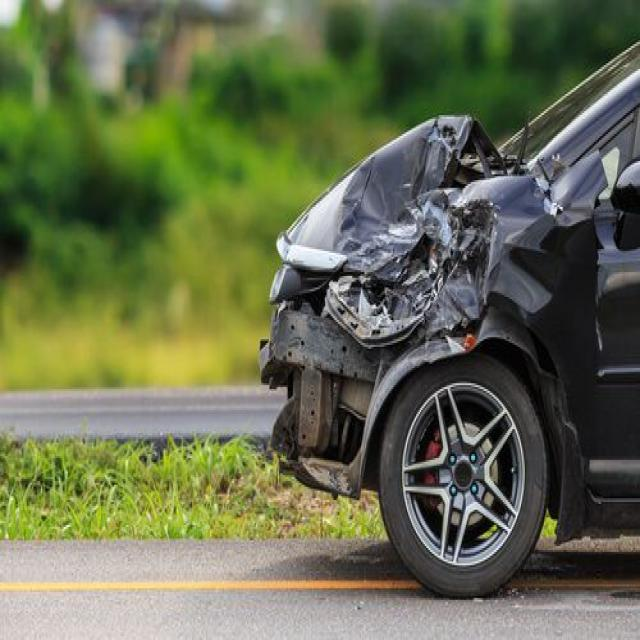accident: (245, 93, 585, 562)
